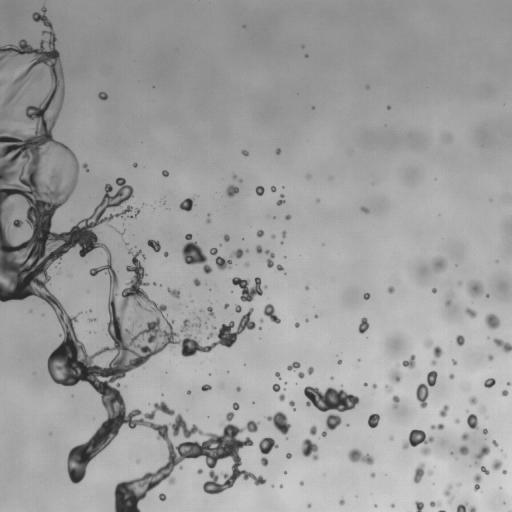droplet: (231, 276, 267, 302), (402, 430, 434, 457), (258, 436, 278, 466), (321, 412, 343, 437), (413, 461, 433, 483), (301, 438, 319, 460), (466, 279, 484, 298), (431, 256, 447, 273), (484, 313, 500, 329), (466, 413, 479, 432), (450, 444, 469, 455), (367, 413, 380, 429), (225, 184, 239, 198), (147, 239, 161, 253), (166, 287, 181, 299), (358, 317, 369, 333), (464, 307, 477, 319), (438, 404, 449, 417), (286, 361, 300, 371), (491, 459, 503, 470), (441, 132, 452, 143), (38, 62, 49, 73), (62, 74, 73, 85), (42, 79, 53, 90), (32, 96, 43, 107), (14, 104, 25, 115), (23, 126, 34, 137), (81, 206, 92, 217), (49, 222, 60, 233), (258, 236, 269, 247), (227, 239, 238, 250), (267, 240, 278, 251), (218, 247, 229, 258), (427, 248, 438, 259), (205, 255, 216, 266), (225, 267, 236, 278), (258, 268, 269, 279), (431, 271, 442, 282), (462, 272, 473, 283), (457, 285, 468, 296), (434, 291, 445, 302), (162, 294, 173, 305), (164, 308, 175, 319), (476, 308, 487, 319), (474, 314, 485, 325), (491, 327, 502, 338), (51, 336, 62, 347), (438, 353, 449, 364), (377, 374, 388, 385), (303, 375, 314, 386), (77, 379, 88, 390), (392, 383, 403, 394), (278, 402, 289, 413), (338, 409, 349, 420), (97, 410, 108, 421), (232, 416, 243, 427), (269, 428, 280, 439), (250, 431, 261, 442), (78, 433, 89, 444), (109, 435, 120, 446), (292, 442, 303, 453), (468, 442, 479, 453), (248, 444, 259, 455), (315, 445, 326, 456), (461, 453, 472, 464), (195, 455, 206, 466), (481, 455, 492, 466), (354, 459, 365, 470), (85, 460, 96, 471), (252, 464, 263, 475), (156, 481, 167, 492), (434, 492, 445, 503), (105, 495, 116, 506), (483, 378, 495, 388), (392, 395, 400, 409), (414, 500, 424, 511), (0, 275, 10, 286), (276, 193, 285, 205), (456, 334, 465, 346), (289, 399, 297, 412), (98, 91, 108, 100), (255, 186, 264, 196), (13, 219, 24, 227), (309, 424, 317, 435), (429, 500, 441, 507), (468, 396, 477, 405), (478, 405, 487, 414), (460, 432, 469, 441), (26, 52, 35, 61), (50, 129, 59, 138), (281, 220, 290, 229), (256, 236, 265, 245), (440, 250, 449, 259), (175, 251, 184, 260), (258, 252, 267, 261), (194, 261, 203, 270), (424, 262, 433, 271), (444, 262, 453, 271), (197, 271, 206, 280), (233, 285, 242, 294), (178, 293, 187, 302), (7, 298, 16, 307), (41, 301, 50, 310), (241, 301, 250, 310), (232, 313, 241, 322), (171, 322, 180, 331), (216, 343, 225, 352), (399, 365, 408, 374), (280, 369, 289, 378), (476, 419, 485, 428), (317, 421, 326, 430), (119, 422, 128, 431), (235, 432, 244, 441), (309, 434, 318, 443), (343, 443, 352, 452), (236, 446, 245, 455), (159, 455, 168, 464), (182, 457, 191, 466), (151, 485, 160, 494), (222, 487, 231, 496), (136, 499, 145, 508), (193, 277, 201, 286), (234, 304, 242, 313), (274, 264, 284, 271), (201, 384, 211, 391), (105, 505, 116, 511), (336, 505, 347, 511), (379, 505, 390, 511), (256, 229, 264, 237), (362, 292, 370, 300), (158, 493, 166, 501), (82, 163, 89, 172), (360, 206, 369, 213), (307, 366, 314, 375), (205, 213, 211, 223), (241, 149, 249, 156), (297, 371, 305, 378), (501, 388, 508, 396), (232, 402, 239, 410), (41, 0, 52, 5), (0, 91, 5, 102), (0, 273, 5, 284), (339, 496, 345, 505), (162, 170, 169, 177), (387, 286, 394, 293), (285, 452, 292, 459), (52, 26, 59, 33), (43, 33, 50, 40), (12, 40, 19, 47), (32, 42, 39, 49), (54, 43, 61, 50), (78, 167, 85, 174), (231, 179, 238, 186), (112, 184, 119, 191), (220, 186, 227, 193), (263, 187, 270, 194), (275, 187, 282, 194), (178, 194, 185, 201), (120, 201, 127, 208), (63, 225, 70, 232), (262, 231, 269, 238), (275, 233, 282, 240), (151, 234, 158, 241), (181, 238, 188, 245), (201, 248, 208, 255), (241, 252, 248, 259), (230, 255, 237, 262), (272, 257, 279, 264), (247, 281, 254, 288), (482, 286, 489, 293), (252, 293, 259, 300), (26, 294, 33, 301), (155, 298, 162, 305), (469, 303, 476, 310), (228, 304, 235, 311), (240, 307, 247, 314), (494, 310, 501, 317), (248, 314, 255, 321), (263, 315, 270, 322), (188, 316, 195, 323), (229, 326, 236, 333), (432, 339, 439, 346), (175, 343, 182, 350), (439, 344, 446, 351), (496, 345, 503, 352), (427, 347, 434, 354), (186, 354, 193, 361), (436, 355, 443, 362), (142, 360, 149, 367), (299, 365, 306, 372), (449, 365, 456, 372), (271, 376, 278, 383), (400, 376, 407, 383), (109, 381, 116, 388), (376, 383, 383, 390), (65, 384, 72, 391), (333, 384, 340, 391), (319, 386, 326, 393), (344, 387, 351, 394), (119, 390, 126, 397), (466, 390, 473, 397), (94, 391, 101, 398), (284, 394, 291, 401), (476, 398, 483, 405), (166, 402, 173, 409), (124, 406, 131, 413), (330, 408, 337, 415), (268, 409, 275, 416), (460, 415, 467, 422), (437, 416, 444, 423), (285, 417, 292, 424), (230, 418, 237, 425), (267, 420, 274, 427), (463, 424, 470, 431), (315, 427, 322, 434), (216, 428, 223, 435), (326, 428, 333, 435), (402, 433, 409, 440), (159, 438, 166, 445), (457, 439, 464, 446), (462, 439, 469, 446), (486, 441, 493, 448), (350, 442, 357, 449), (63, 447, 70, 454), (343, 447, 350, 454), (360, 448, 367, 455), (457, 453, 464, 460), (198, 454, 205, 461), (305, 454, 312, 461), (343, 456, 350, 463), (202, 465, 209, 472), (149, 466, 156, 473), (474, 467, 481, 474), (408, 469, 415, 476), (63, 474, 70, 481), (236, 474, 243, 481), (420, 474, 427, 481), (81, 475, 88, 482), (121, 475, 128, 482), (246, 477, 253, 484), (79, 478, 86, 485), (160, 478, 167, 485), (439, 483, 446, 490), (108, 486, 115, 493), (281, 230, 287, 238), (223, 234, 229, 242), (275, 372, 281, 380), (506, 335, 511, 344), (421, 506, 430, 511), (447, 506, 456, 511), (275, 148, 281, 155), (270, 186, 277, 192), (284, 214, 291, 220), (163, 251, 169, 258), (487, 354, 493, 361), (451, 358, 457, 365), (492, 440, 498, 447), (305, 173, 311, 179), (294, 322, 300, 328), (448, 373, 454, 379), (371, 383, 377, 389), (197, 468, 203, 474), (369, 472, 375, 478), (0, 140, 4, 149), (244, 261, 249, 267), (304, 284, 309, 290), (224, 303, 229, 309), (198, 308, 204, 313), (454, 418, 459, 424), (482, 428, 487, 434), (388, 435, 393, 441), (455, 482, 461, 487), (507, 385, 511, 392), (507, 468, 511, 475), (306, 507, 313, 511), (372, 507, 379, 511), (389, 507, 396, 511), (410, 507, 417, 511), (132, 162, 137, 167), (270, 234, 275, 239), (337, 359, 342, 364), (236, 386, 241, 391), (502, 469, 507, 474), (390, 503, 395, 508), (38, 10, 43, 15), (44, 11, 49, 16), (37, 19, 42, 24), (50, 20, 55, 25), (44, 25, 49, 30), (302, 48, 307, 53), (58, 51, 63, 56), (17, 53, 22, 58), (1, 57, 6, 62), (38, 61, 43, 66), (62, 69, 67, 74), (63, 87, 68, 92), (6, 88, 11, 93), (17, 89, 22, 94), (106, 91, 111, 96), (63, 93, 68, 98), (10, 98, 15, 103), (62, 98, 67, 103), (98, 98, 103, 103), (61, 103, 66, 108), (59, 108, 64, 113), (54, 120, 59, 125), (63, 140, 68, 145), (274, 143, 279, 148), (244, 146, 249, 151), (271, 147, 276, 152), (279, 150, 284, 155), (74, 152, 79, 157), (78, 160, 83, 165), (128, 160, 133, 165), (227, 172, 232, 177), (236, 173, 241, 178), (124, 180, 129, 185), (259, 181, 264, 186), (131, 184, 136, 189), (72, 188, 77, 193), (100, 190, 105, 195), (108, 191, 113, 196), (222, 191, 227, 196), (233, 192, 238, 197), (186, 193, 191, 198), (68, 194, 73, 199), (97, 196, 102, 201), (191, 199, 196, 204), (280, 202, 285, 207), (364, 203, 369, 208), (190, 204, 195, 209), (88, 209, 93, 214), (182, 209, 187, 214), (187, 209, 192, 214), (129, 210, 134, 215), (359, 210, 364, 215), (85, 212, 90, 217), (202, 214, 207, 219), (287, 218, 292, 223), (70, 221, 75, 226), (206, 222, 211, 227), (256, 225, 261, 230), (252, 228, 257, 233), (220, 230, 225, 235), (252, 233, 257, 238), (260, 234, 265, 239), (189, 237, 194, 242), (219, 237, 224, 242), (282, 237, 287, 242), (240, 245, 245, 250), (147, 246, 152, 251), (232, 246, 237, 251), (261, 246, 266, 251), (159, 247, 164, 252), (251, 247, 256, 252), (269, 247, 274, 252), (215, 251, 220, 256), (265, 253, 270, 258), (136, 255, 141, 260), (223, 255, 228, 260), (262, 261, 267, 266), (271, 264, 276, 269), (143, 268, 148, 273), (278, 269, 283, 274), (207, 271, 212, 276), (190, 274, 195, 279), (239, 274, 244, 279), (141, 277, 146, 282), (199, 279, 204, 284), (227, 279, 232, 284), (189, 281, 194, 286), (387, 281, 392, 286), (207, 282, 212, 287), (259, 282, 264, 287), (138, 284, 143, 289), (169, 285, 174, 290), (194, 285, 199, 290), (435, 285, 440, 290), (392, 289, 397, 294), (384, 291, 389, 296), (480, 292, 485, 297), (147, 294, 152, 299), (441, 296, 446, 301), (450, 298, 455, 303), (187, 302, 192, 307), (204, 302, 209, 307), (448, 303, 453, 308), (179, 304, 184, 309), (464, 313, 469, 318), (181, 314, 186, 319), (308, 315, 313, 320), (193, 318, 198, 323), (366, 318, 371, 323), (298, 319, 303, 324), (356, 319, 361, 324), (224, 320, 229, 325), (270, 320, 275, 325), (206, 321, 211, 326), (254, 322, 259, 327), (200, 323, 205, 328), (216, 324, 221, 329), (253, 325, 258, 330), (353, 326, 358, 331), (243, 327, 248, 332), (363, 330, 368, 335), (458, 330, 463, 335), (236, 333, 241, 338), (496, 334, 501, 339), (214, 336, 219, 341), (451, 337, 456, 342), (463, 338, 468, 343), (206, 340, 211, 345), (231, 342, 236, 347), (491, 342, 496, 347), (211, 346, 216, 351), (195, 349, 200, 354), (149, 354, 154, 359), (483, 356, 488, 361), (492, 356, 497, 361), (413, 357, 418, 362), (352, 359, 357, 364), (42, 360, 47, 365), (287, 360, 292, 365), (456, 360, 461, 365), (43, 366, 48, 371), (295, 367, 300, 372), (426, 367, 431, 372), (125, 370, 130, 375), (311, 370, 316, 375), (489, 373, 494, 378), (453, 374, 458, 379), (47, 376, 52, 381), (295, 376, 300, 381), (435, 376, 440, 381), (449, 378, 454, 383), (49, 379, 54, 384), (422, 379, 427, 384), (200, 380, 205, 385), (235, 381, 240, 386), (367, 382, 372, 387), (479, 382, 484, 387), (57, 383, 62, 388), (279, 383, 284, 388), (426, 384, 431, 389), (240, 385, 245, 390), (412, 385, 417, 390), (484, 386, 489, 391), (278, 388, 283, 393), (205, 389, 210, 394), (299, 389, 304, 394), (352, 391, 357, 396), (388, 392, 393, 397), (411, 392, 416, 397), (397, 393, 402, 398), (424, 397, 429, 402), (357, 398, 362, 403), (389, 399, 394, 404), (415, 399, 420, 404), (397, 400, 402, 405), (446, 401, 451, 406), (438, 405, 443, 410), (228, 406, 233, 411), (146, 408, 151, 413), (232, 409, 237, 414), (445, 409, 450, 414), (471, 409, 476, 414), (367, 410, 372, 415), (464, 412, 469, 417), (364, 414, 369, 419), (181, 415, 186, 420), (252, 417, 257, 422), (377, 419, 382, 424), (433, 420, 438, 425), (196, 423, 201, 428), (364, 423, 369, 428), (135, 424, 140, 429), (186, 424, 191, 429), (256, 424, 261, 429), (335, 424, 340, 429), (415, 425, 420, 430), (305, 426, 310, 431), (372, 426, 377, 431), (287, 427, 292, 432), (433, 427, 438, 432), (439, 428, 444, 433), (153, 429, 158, 434), (457, 431, 462, 436), (480, 433, 485, 438), (426, 441, 431, 446), (417, 442, 422, 447), (407, 443, 412, 448), (497, 443, 502, 448), (270, 446, 275, 451), (281, 451, 286, 456), (263, 453, 268, 458), (448, 454, 453, 459), (281, 455, 286, 460), (312, 459, 317, 464), (173, 464, 178, 469), (237, 465, 242, 470), (485, 465, 490, 470), (422, 466, 427, 471), (497, 467, 502, 472), (479, 471, 484, 476), (138, 472, 143, 477), (254, 472, 259, 477), (374, 472, 379, 477), (261, 474, 266, 479), (366, 475, 371, 480), (199, 480, 204, 485), (450, 480, 455, 485), (478, 481, 483, 486), (274, 482, 279, 487), (257, 483, 262, 488), (449, 488, 454, 493), (217, 491, 222, 496), (206, 492, 211, 497), (212, 492, 217, 497), (343, 496, 348, 501), (417, 497, 422, 502), (432, 497, 437, 502), (459, 499, 464, 504), (343, 501, 348, 506), (338, 504, 343, 509), (452, 506, 457, 511), (259, 317, 263, 323), (299, 480, 303, 486), (0, 40, 3, 47), (365, 85, 370, 89), (245, 249, 249, 254), (458, 280, 462, 285), (432, 288, 436, 293), (485, 293, 489, 298), (357, 358, 361, 363), (506, 381, 511, 385), (186, 390, 191, 394), (279, 484, 283, 489), (307, 503, 311, 508), (387, 105, 391, 109), (316, 198, 320, 202), (152, 281, 156, 285), (314, 314, 318, 318), (305, 318, 309, 322), (258, 326, 262, 330), (363, 382, 367, 386), (453, 456, 457, 460), (136, 459, 140, 463), (283, 470, 287, 474), (508, 349, 511, 354), (420, 508, 425, 511), (474, 508, 479, 511), (301, 44, 304, 48), (304, 54, 308, 57), (311, 106, 315, 109), (280, 240, 283, 244), (28, 309, 32, 312), (330, 376, 333, 380), (346, 423, 350, 426), (48, 432, 52, 435), (0, 107, 2, 112), (0, 299, 2, 304), (489, 198, 492, 201), (272, 216, 275, 219), (495, 260, 498, 263), (208, 288, 211, 291), (230, 290, 233, 293), (185, 304, 188, 307), (89, 309, 92, 312), (226, 370, 229, 373), (284, 381, 287, 384), (466, 409, 469, 412), (92, 417, 95, 420), (271, 484, 274, 487), (499, 486, 502, 489), (374, 504, 377, 507), (44, 4, 47, 7), (54, 34, 57, 37), (54, 40, 57, 43), (307, 52, 310, 55), (304, 57, 307, 60), (20, 86, 23, 89), (152, 87, 155, 90), (99, 88, 102, 91), (96, 90, 99, 93), (311, 102, 314, 105), (389, 103, 392, 106), (308, 105, 311, 108), (314, 106, 317, 109), (383, 106, 386, 109), (388, 108, 391, 111), (24, 115, 27, 118), (240, 153, 243, 156), (244, 155, 247, 158), (132, 159, 135, 162), (136, 164, 139, 167), (86, 165, 89, 168), (131, 166, 134, 169), (161, 167, 164, 170), (166, 168, 169, 171), (88, 169, 91, 172), (117, 174, 120, 177), (167, 174, 170, 177), (161, 175, 164, 178), (270, 182, 273, 185), (273, 183, 276, 186), (284, 185, 287, 188), (238, 188, 241, 191), (131, 191, 134, 194), (253, 191, 256, 194), (128, 196, 131, 199), (319, 199, 322, 202), (143, 200, 146, 203), (160, 200, 163, 203), (156, 201, 159, 204), (152, 203, 155, 206), (142, 204, 145, 207), (162, 204, 165, 207), (149, 206, 152, 209), (165, 209, 168, 212), (272, 212, 275, 215), (136, 213, 139, 216), (117, 215, 120, 218), (80, 216, 83, 219), (130, 217, 133, 220), (261, 227, 264, 230), (119, 229, 122, 232), (124, 230, 127, 233), (187, 230, 190, 233), (122, 233, 125, 236), (284, 233, 287, 236), (243, 236, 246, 239), (228, 238, 231, 241), (124, 239, 127, 242), (158, 241, 161, 244), (277, 242, 280, 245), (282, 242, 285, 245), (212, 244, 215, 247), (127, 245, 130, 248), (242, 250, 245, 253), (283, 252, 286, 255), (166, 255, 169, 258), (286, 255, 289, 258), (281, 264, 284, 267), (254, 274, 257, 277), (257, 274, 260, 277), (149, 281, 152, 284), (156, 282, 159, 285), (307, 284, 310, 287), (301, 286, 304, 289), (428, 288, 431, 291), (205, 289, 208, 292), (210, 289, 213, 292), (303, 289, 306, 292), (364, 289, 367, 292), (435, 290, 438, 293), (166, 291, 169, 294), (488, 294, 491, 297), (360, 295, 363, 298), (189, 296, 192, 299), (368, 296, 371, 299), (362, 298, 365, 301), (226, 300, 229, 303), (221, 303, 224, 306), (226, 306, 229, 309), (211, 308, 214, 311), (316, 312, 319, 315), (311, 313, 314, 316), (363, 314, 366, 317), (208, 315, 211, 318), (304, 315, 307, 318), (279, 320, 282, 323), (292, 320, 295, 323), (200, 321, 203, 324), (306, 321, 309, 324), (298, 324, 301, 327), (292, 325, 295, 328), (258, 329, 261, 332), (356, 355, 359, 358), (359, 356, 362, 359), (335, 357, 338, 360), (453, 357, 456, 360), (296, 359, 299, 362), (341, 359, 344, 362), (359, 360, 362, 363), (449, 360, 452, 363), (240, 361, 243, 364), (245, 363, 248, 366), (338, 363, 341, 366), (453, 364, 456, 367), (227, 367, 230, 370), (277, 369, 280, 372), (223, 370, 226, 373), (228, 371, 231, 374), (272, 371, 275, 374), (210, 372, 213, 375), (164, 373, 167, 376), (331, 373, 334, 376), (279, 374, 282, 377), (327, 374, 330, 377), (484, 376, 487, 379), (364, 379, 367, 382), (494, 380, 497, 383), (286, 381, 289, 384), (360, 381, 363, 384), (364, 385, 367, 388), (198, 386, 201, 389), (269, 387, 272, 390), (374, 387, 377, 390), (184, 388, 187, 391), (233, 388, 236, 391), (239, 389, 242, 392), (190, 391, 193, 394), (186, 393, 189, 396), (502, 395, 505, 398), (236, 400, 239, 403), (254, 400, 257, 403), (251, 403, 254, 406), (238, 405, 241, 408), (138, 407, 141, 410), (295, 407, 298, 410), (206, 412, 209, 415), (204, 416, 207, 419), (208, 416, 211, 419), (486, 427, 489, 430), (492, 436, 495, 439), (495, 439, 498, 442), (447, 449, 450, 452), (502, 449, 505, 452), (288, 450, 291, 453), (368, 452, 371, 455), (288, 457, 291, 460), (194, 468, 197, 471), (280, 470, 283, 473), (286, 470, 289, 473), (282, 473, 285, 476), (501, 473, 504, 476), (303, 481, 306, 484), (296, 482, 299, 485), (282, 484, 285, 487), (471, 485, 474, 488), (271, 487, 274, 490), (280, 487, 283, 490), (476, 488, 479, 491), (165, 494, 168, 497), (338, 496, 341, 499), (158, 499, 161, 502), (163, 499, 166, 502), (504, 499, 507, 502), (307, 500, 310, 503), (389, 500, 392, 503), (304, 503, 307, 506), (376, 503, 379, 506), (394, 503, 397, 506), (501, 503, 504, 506), (309, 506, 312, 509), (372, 506, 375, 509), (440, 507, 443, 510), (242, 25, 245, 27), (282, 185, 284, 188), (241, 238, 244, 240), (134, 245, 136, 248), (283, 256, 286, 258), (58, 261, 60, 264), (284, 272, 286, 275), (159, 284, 162, 286), (190, 300, 193, 302), (59, 334, 61, 337), (487, 336, 489, 339), (243, 363, 245, 366), (208, 373, 211, 375), (124, 385, 127, 387), (283, 388, 286, 390), (161, 393, 163, 396), (71, 394, 73, 397), (252, 401, 254, 404), (432, 482, 434, 485), (503, 501, 505, 504), (509, 380, 511, 383), (322, 243, 324, 245), (455, 264, 457, 266), (259, 337, 261, 339), (336, 354, 338, 356), (165, 371, 167, 373), (295, 382, 297, 384), (148, 403, 150, 405), (355, 495, 357, 497), (71, 219, 73, 220), (85, 311, 87, 312), (207, 416, 209, 417), (214, 284, 215, 285)
ligament: (303, 384, 359, 413), (181, 233, 212, 274), (383, 354, 415, 393), (416, 370, 437, 408), (264, 411, 291, 439), (255, 244, 275, 268), (347, 448, 374, 465), (179, 194, 199, 211), (263, 303, 280, 323), (493, 337, 511, 353), (272, 383, 285, 401), (443, 483, 454, 504), (473, 473, 482, 491), (456, 503, 476, 511), (232, 173, 243, 183), (444, 294, 453, 306), (430, 423, 444, 430), (500, 448, 506, 458), (87, 318, 97, 322), (204, 321, 209, 329), (88, 330, 95, 333), (164, 207, 170, 210), (219, 243, 222, 248), (0, 80, 2, 85), (437, 510, 446, 511), (507, 510, 511, 511), (152, 86, 155, 87)
